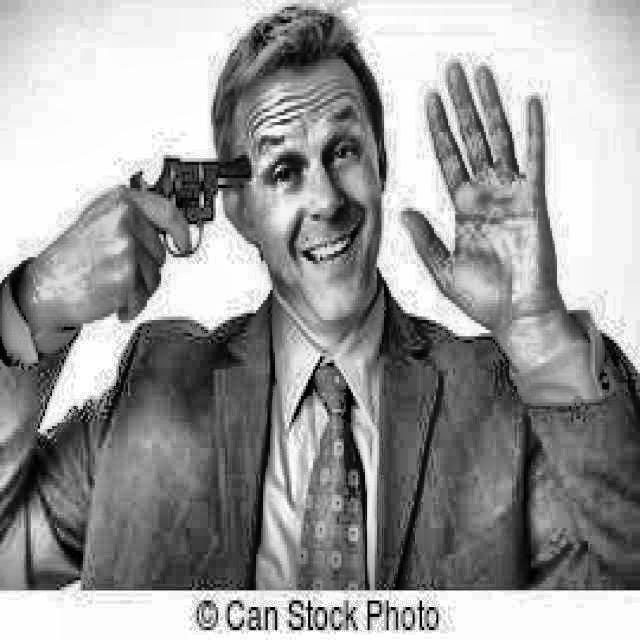pistol: (108, 122, 264, 286)
